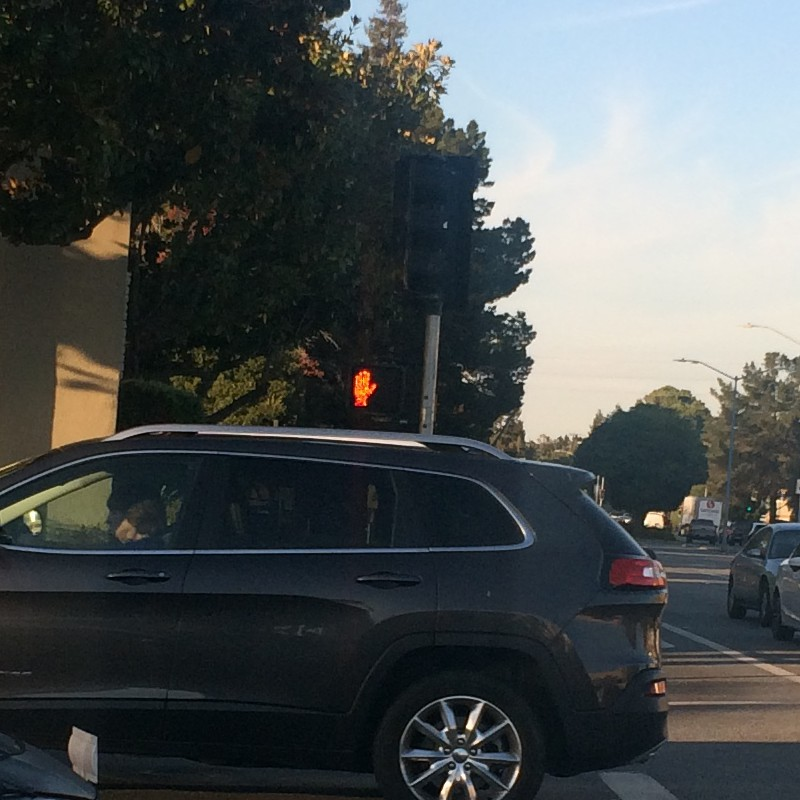stop: (348, 361, 406, 418)
